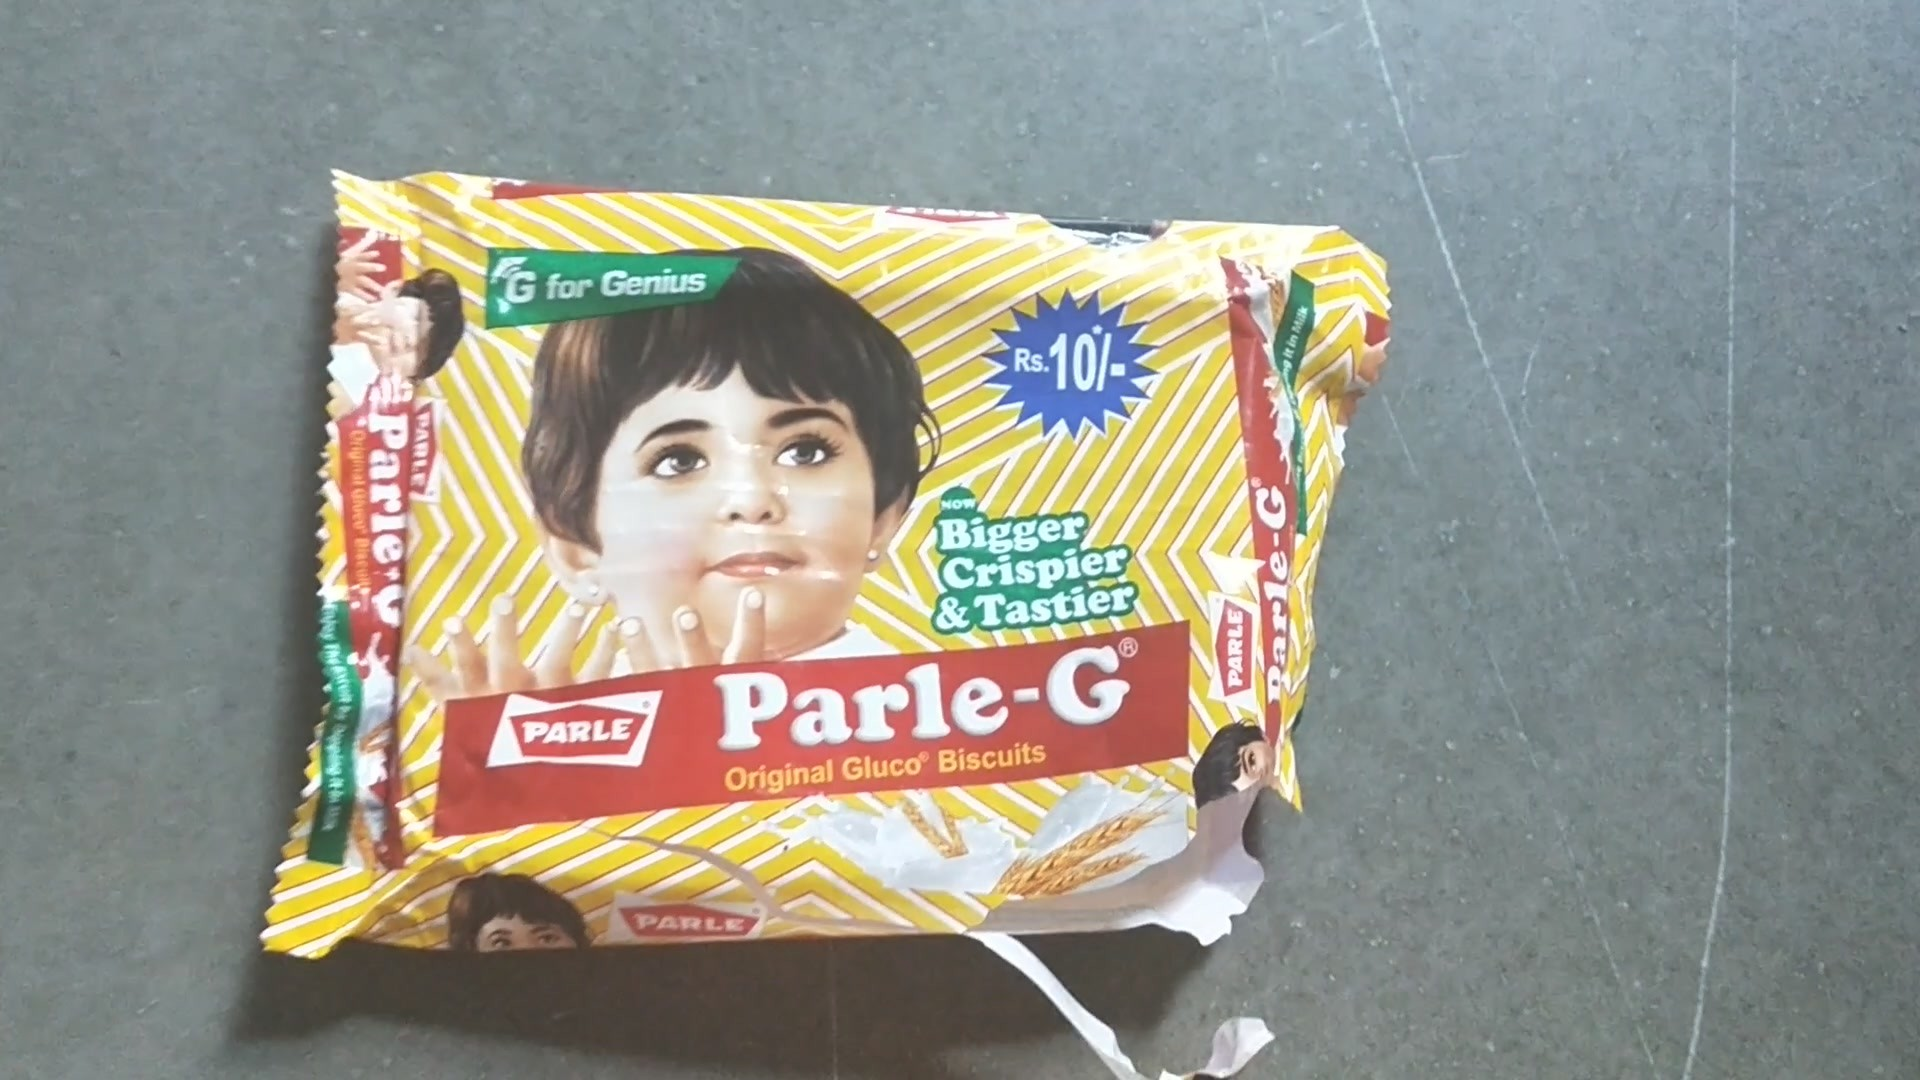parle-g: (365, 232, 1234, 922)
